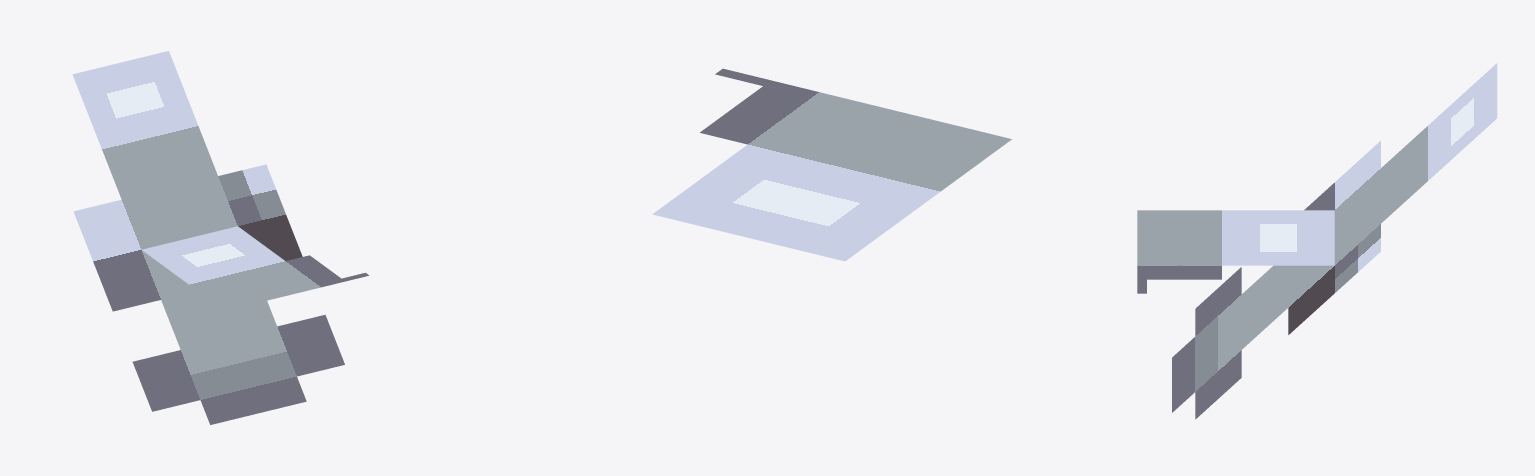
3 views of the same model, side by side, from view 1: azimuth 30°, elevation 25°; view 2: azimuth 150°, elevation 25°; view 3: azimuth 270°, elevation 25° (orthographic). The views are drawn at different scales.
Bounding box in the file's own units: 0.5 × 0.707 × 0.7285.
1 material, 1 textured.
